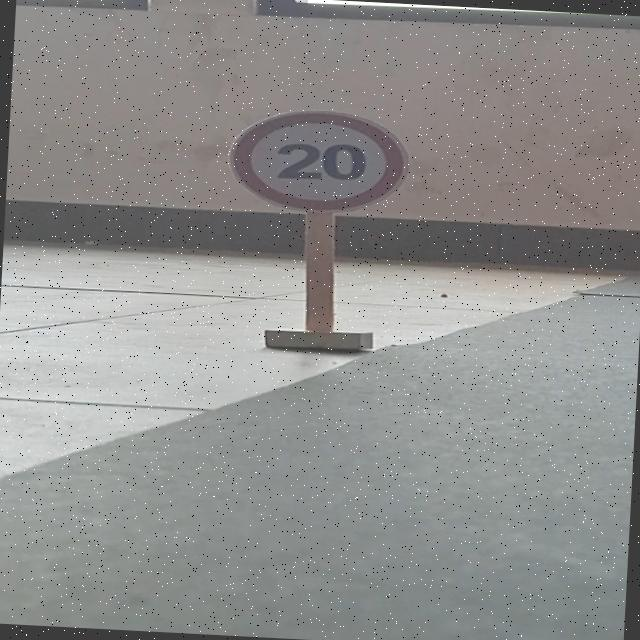Speed20: (208, 95, 426, 228)
